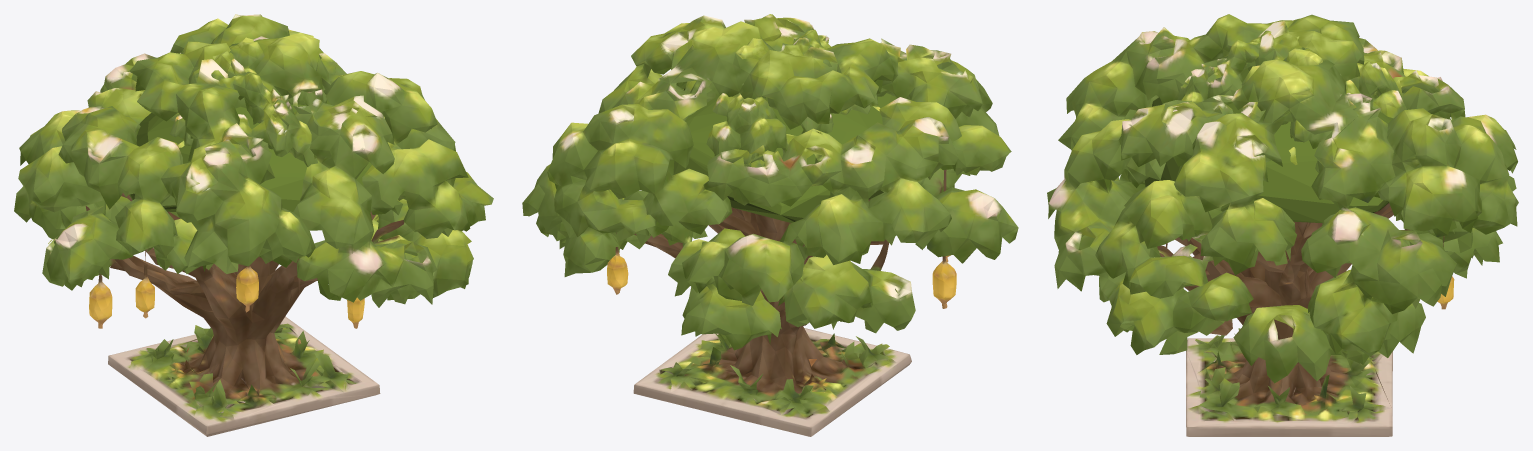
File: tree_banyan.glb
3 renders of one model, left to right at view 1: azimuth 30°, elevation 25°; view 2: azimuth 150°, elevation 25°; view 3: azimuth 270°, elevation 25°, orthographic. The views are drawn at different scales.
Parts seen in each view (by area): view 1: body, canopy, lanterns; view 2: body, canopy, lanterns; view 3: body, canopy.
Boxes of the visible parts, x1=… form: body: x1=14, y1=14, x2=493, y2=436; canopy: x1=129, y1=100, x2=371, y2=211; lanterns: x1=89, y1=268, x2=364, y2=322; body: x1=522, y1=14, x2=1018, y2=436; canopy: x1=673, y1=88, x2=897, y2=222; lanterns: x1=607, y1=255, x2=956, y2=300; body: x1=1047, y1=14, x2=1518, y2=436; canopy: x1=1144, y1=68, x2=1418, y2=223.
Size of the model in its own units: 12 by 9.5 by 11.61.
Materials: 2 (1 with a texture image).
